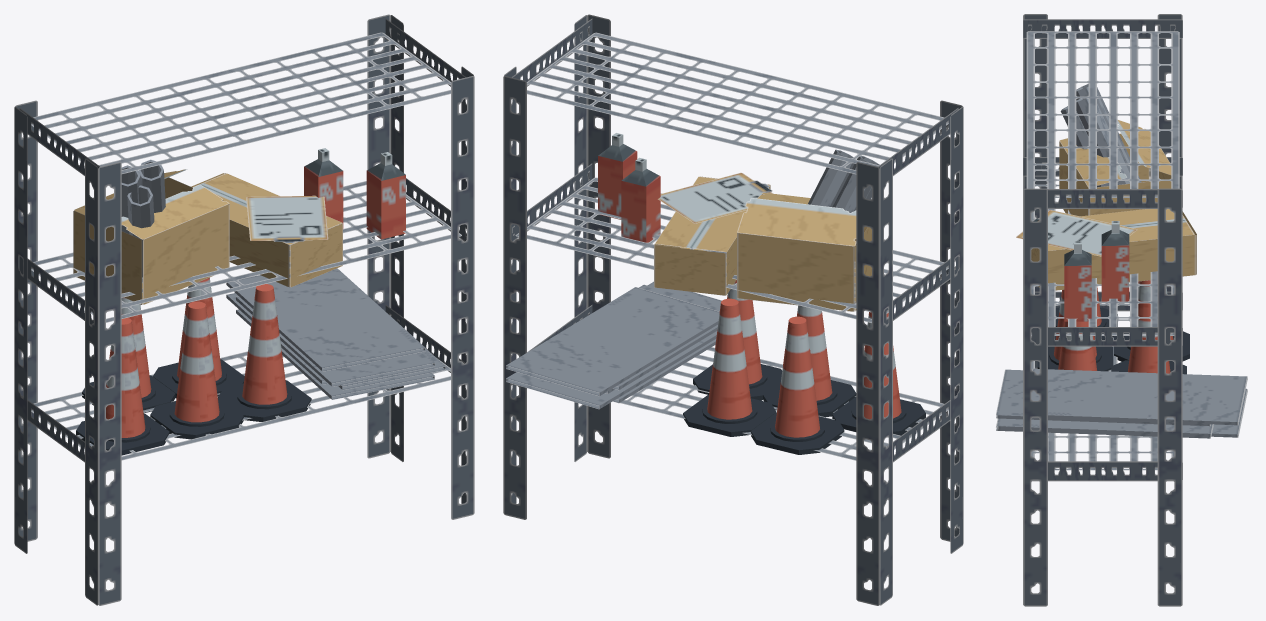
The model's file is jiazi2.fbx.
The picture shows the model from 3 angles, left to right: view 1: azimuth 30°, elevation 25°; view 2: azimuth 150°, elevation 25°; view 3: azimuth 270°, elevation 25°; orthographic projection. The views are drawn at different scales.
Visible parts, largest first — view 1: 平面.045; view 2: 平面.045; view 3: 平面.045.
Boxes of the visible parts, x1,y1,x2,y2 form: 平面.045: (14,14,474,605); 平面.045: (503,14,963,605); 平面.045: (996,14,1247,606).
Size of the model in its own units: 380 by 425 by 239.
